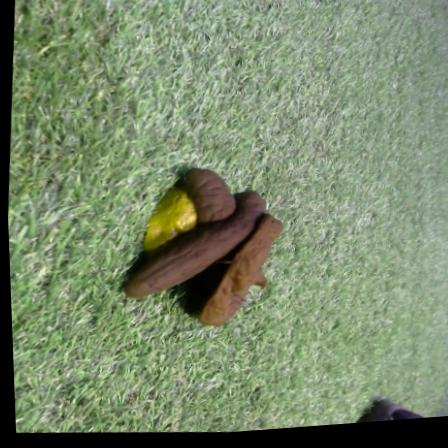dog-poop: (107, 161, 291, 341)
